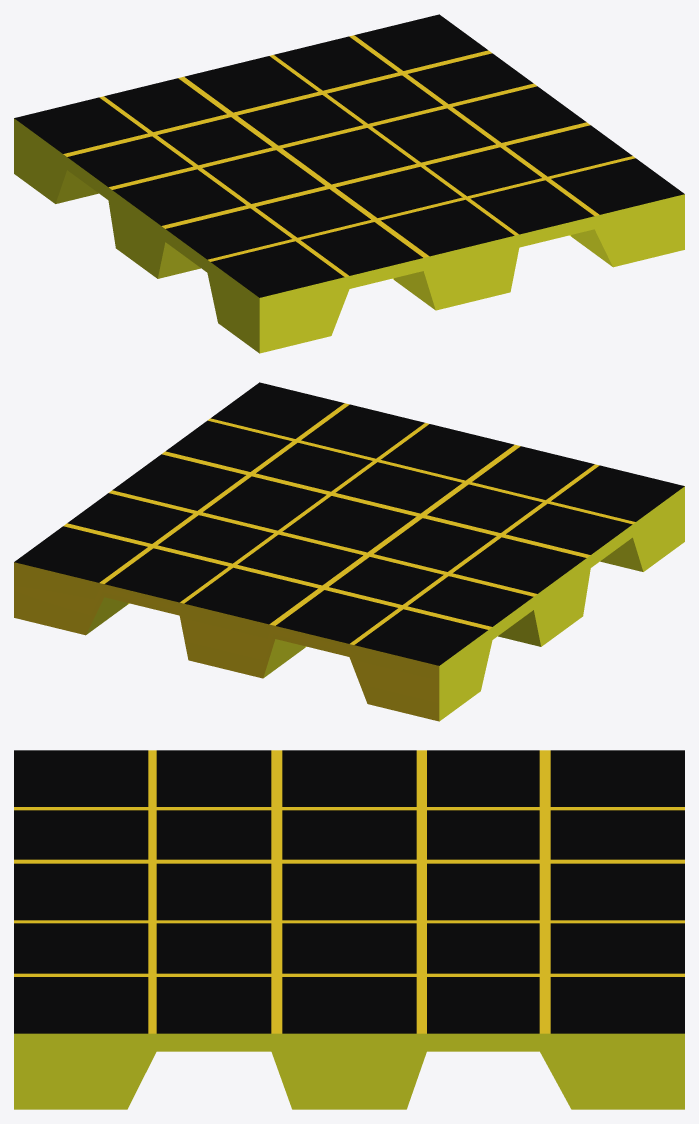
Rendered from estiba.fbx.
The picture shows the model from 3 angles, top to bottom: view 1: azimuth 30°, elevation 25°; view 2: azimuth 150°, elevation 25°; view 3: azimuth 270°, elevation 25°; orthographic projection. The views are drawn at different scales.
Parts seen in each view (by area): view 1: Estiba; view 2: Estiba; view 3: Estiba.
Boxes of the visible parts, x1,y1,x2,y2 form: Estiba: [14, 14, 684, 353]; Estiba: [14, 382, 684, 721]; Estiba: [14, 750, 684, 1109].
Size of the model in its own units: 120 by 15 by 120.
Materials: 1 (1 with a texture image).
